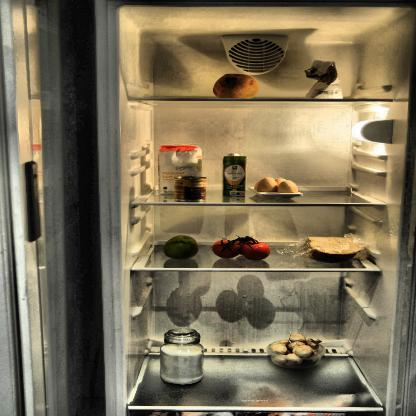apple: (164, 234, 201, 262)
corn: (173, 176, 211, 202)
eggs: (253, 176, 306, 196)
heavy_cream: (222, 152, 251, 197)
mushrooms: (268, 333, 324, 370)
sweet_potato: (210, 72, 266, 102)
tomato: (210, 235, 272, 260)
